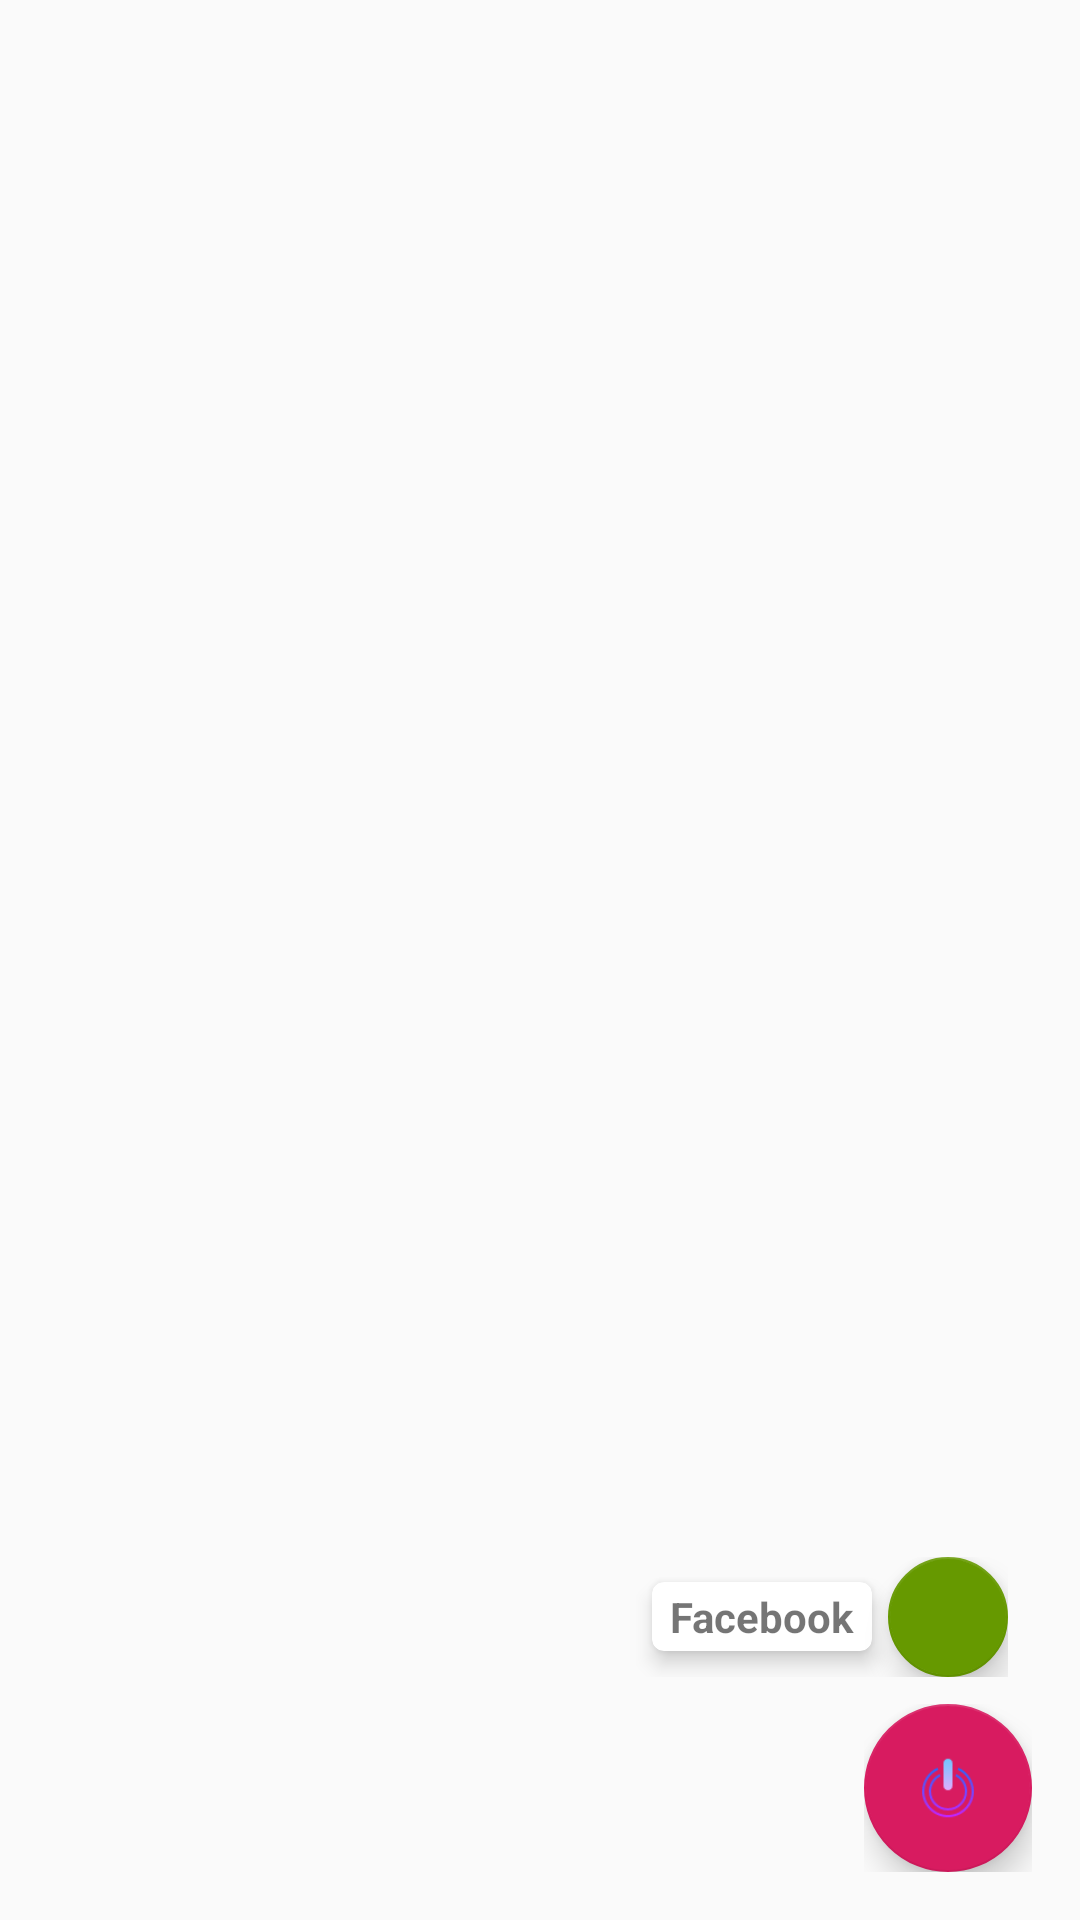

Icon bounding boxes for this 1080x1920 phone screenshot, format Rect(x1, y1, x2, y2):
exit: Rect(864, 1704, 1032, 1872)
